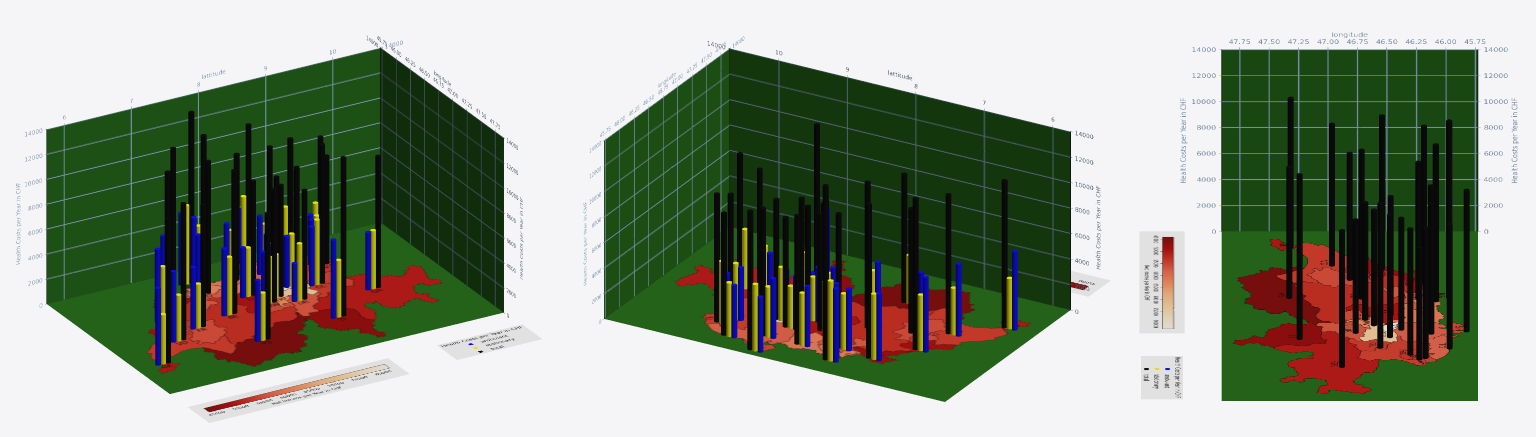
Rendered from health.glb.
3 views of the same model, side by side, from view 1: azimuth 30°, elevation 25°; view 2: azimuth 150°, elevation 25°; view 3: azimuth 270°, elevation 25° (orthographic). The views are drawn at different scales.
Visible parts, largest first — view 1: Image_Panel.006, Image_Panel, Image_Panel.004, Image_Panel.001, Image_Panel.002, Cylinder.018, Cylinder.025, Cylinder.011, Cylinder.070, Cylinder.005, Cylinder.061, Cylinder.010 (+13 smaller); view 2: Image_Panel.005, Image_Panel, Image_Panel.004, Cylinder.070, Cylinder.001, Cylinder.010, Cylinder.011, Cylinder.060, Cylinder.004, Cylinder.005, Cylinder.030, Cylinder.018 (+13 smaller); view 3: Image_Panel.003, Image_Panel, Image_Panel.001, Image_Panel.002, Cylinder.018, Cylinder.061, Cylinder.060, Cylinder.005, Cylinder.019, Cylinder.054, Cylinder.073, Cylinder.042 (+16 smaller).
Boxes of the visible parts, x1,y1,x2,y2 form: Image_Panel.006: [16, 40, 402, 307]; Image_Panel: [47, 223, 503, 393]; Image_Panel.004: [367, 36, 523, 317]; Image_Panel.001: [188, 358, 408, 422]; Image_Panel.002: [437, 324, 542, 359]; Cylinder.018: [340, 156, 346, 316]; Cylinder.025: [231, 169, 237, 313]; Cylinder.011: [180, 202, 186, 340]; Cylinder.070: [188, 110, 194, 282]; Cylinder.005: [264, 211, 270, 339]; Cylinder.061: [319, 143, 324, 283]; Cylinder.010: [165, 217, 170, 363]; Image_Panel.005: [707, 41, 1101, 313]; Image_Panel: [604, 228, 1069, 401]; Image_Panel.004: [583, 36, 744, 323]; Cylinder.070: [822, 184, 828, 360]; Cylinder.001: [912, 196, 918, 349]; Cylinder.010: [1001, 179, 1007, 328]; Cylinder.011: [945, 193, 951, 334]; Cylinder.060: [747, 209, 753, 350]; Cylinder.004: [866, 202, 871, 358]; Cylinder.005: [901, 172, 907, 302]; Cylinder.030: [794, 213, 800, 344]; Cylinder.018: [814, 123, 819, 275]; Image_Panel.003: [1180, 32, 1518, 233]; Image_Panel: [1221, 231, 1477, 400]; Image_Panel.001: [1139, 231, 1184, 333]; Image_Panel.002: [1141, 356, 1182, 399]; Cylinder.018: [1296, 173, 1302, 339]; Cylinder.061: [1377, 202, 1383, 348]; Cylinder.060: [1463, 188, 1469, 332]; Cylinder.005: [1286, 165, 1292, 298]; Cylinder.019: [1428, 202, 1434, 334]; Cylinder.054: [1422, 226, 1428, 358]; Cylinder.073: [1346, 151, 1352, 280]; Cylinder.042: [1407, 227, 1413, 355].
Size of the model in its own units: 1.19 by 0.5675 by 0.9518.
Materials: 85 (7 with a texture image).
